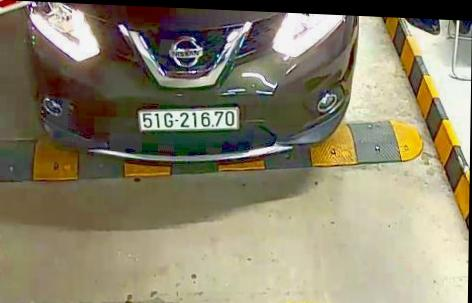License_Plate: (134, 102, 249, 140)
